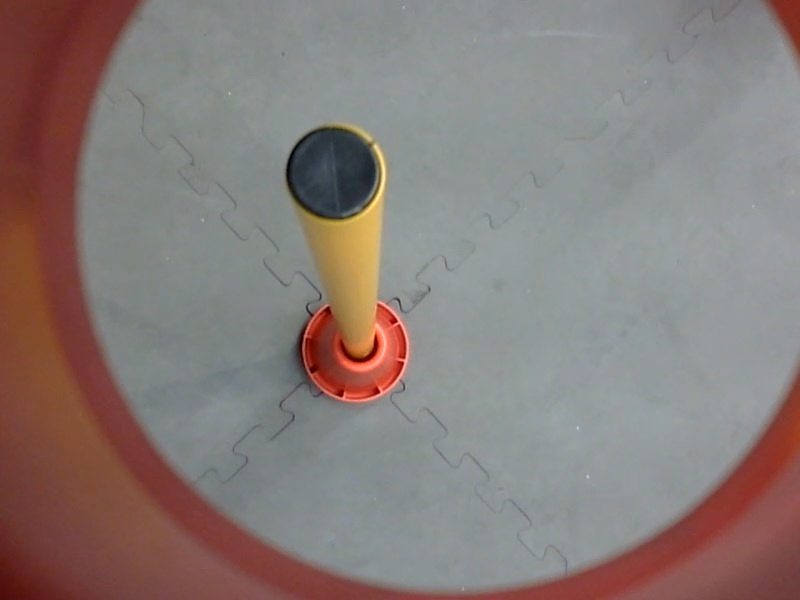tip: (278, 110, 394, 232)
